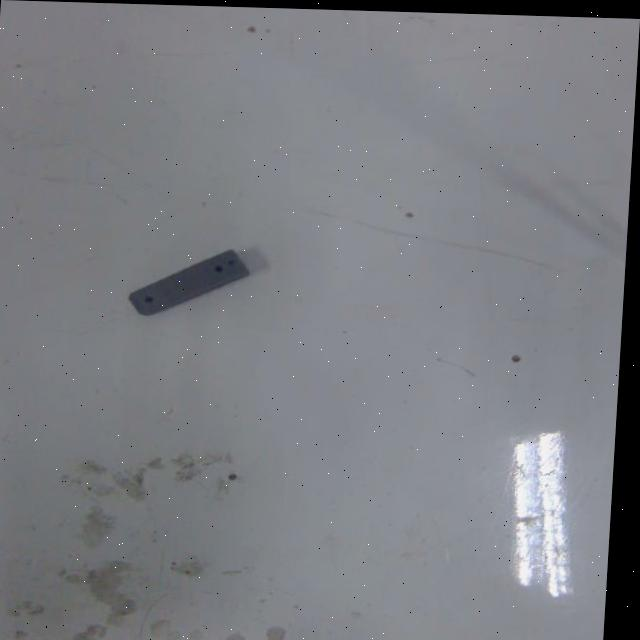grey: (126, 243, 249, 318)
head: (139, 294, 155, 307)
